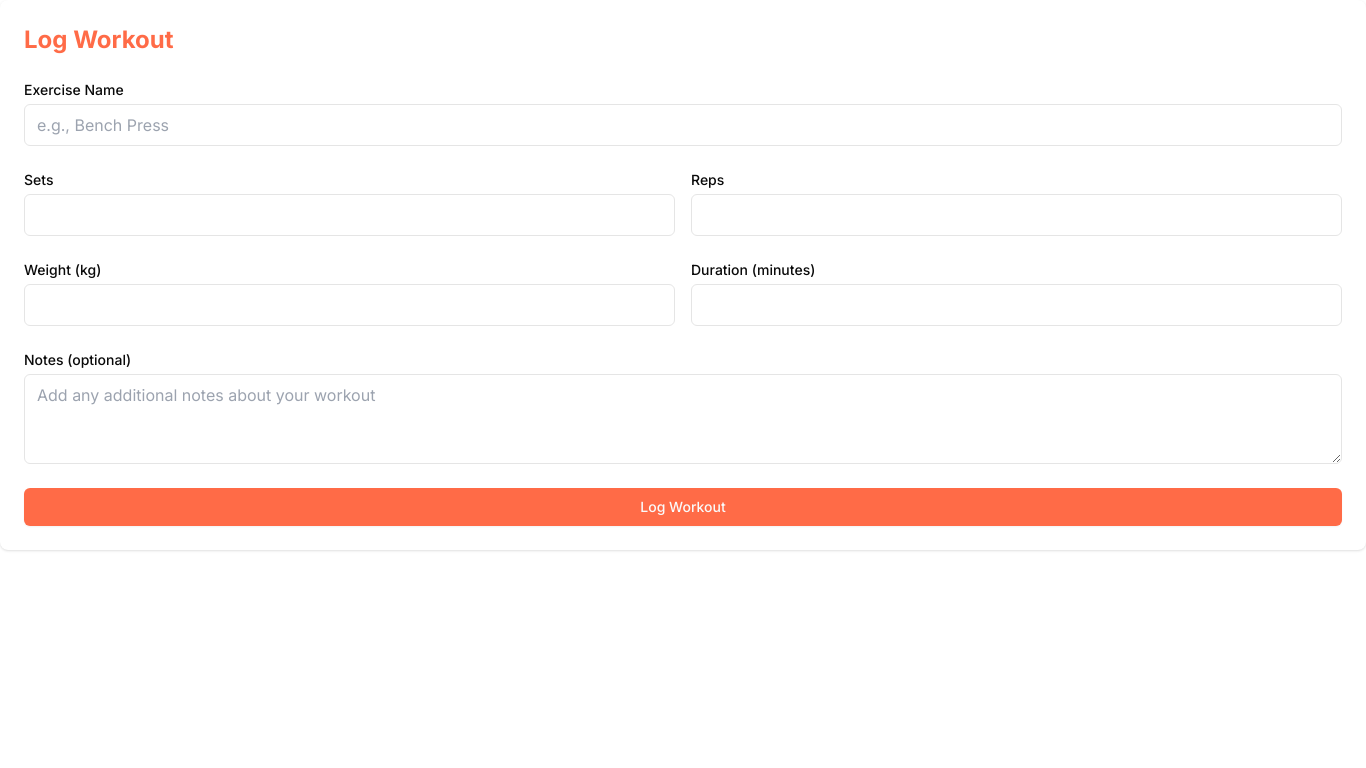
WorkoutLog › displays validation errors
Click the button "Log Workout" at [683, 507], box [24, 488, 1342, 526]
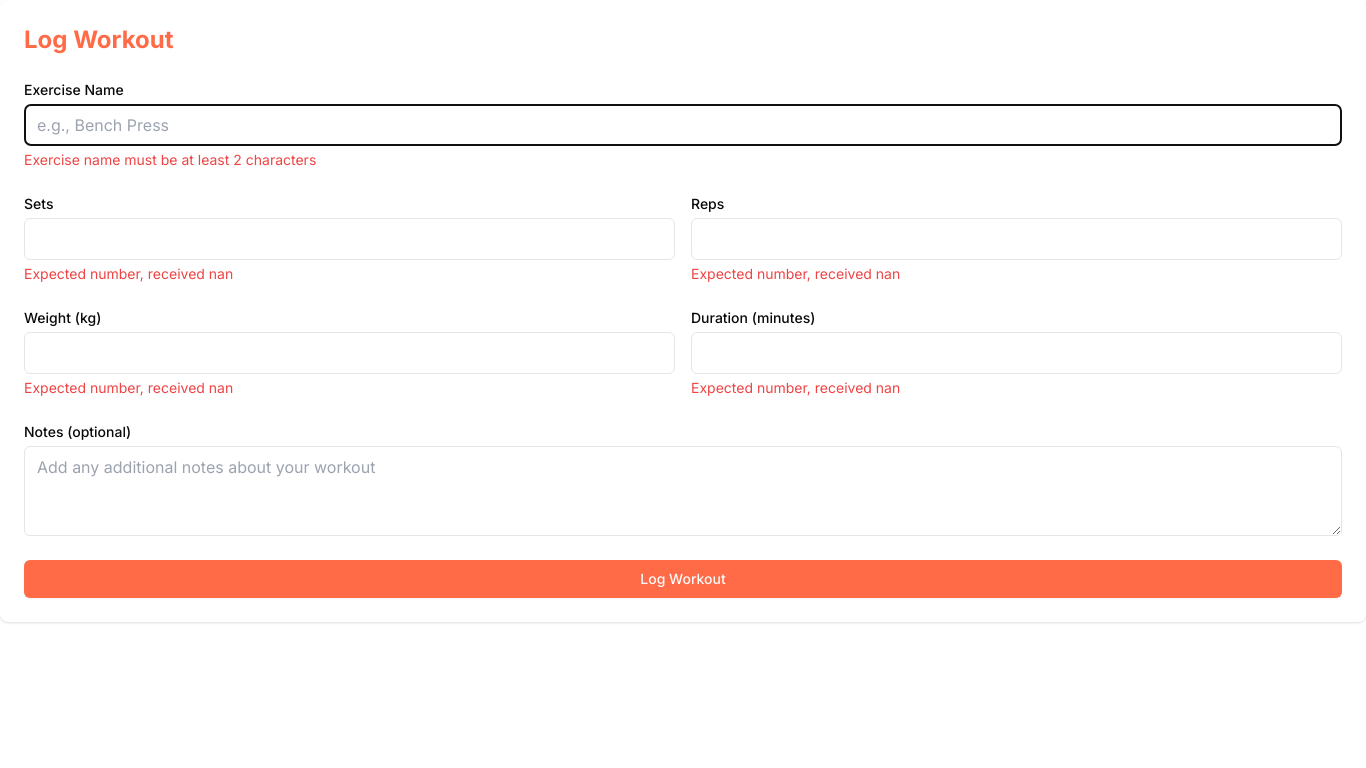
Check: the text "Exercise name must be at least 2 characters" is shown, box [24, 151, 316, 168]
Check: the text "Expected number, received nan" is shown 4 times, box [24, 265, 233, 282]; [691, 265, 900, 282]; [24, 379, 233, 396]; [691, 379, 900, 396]
